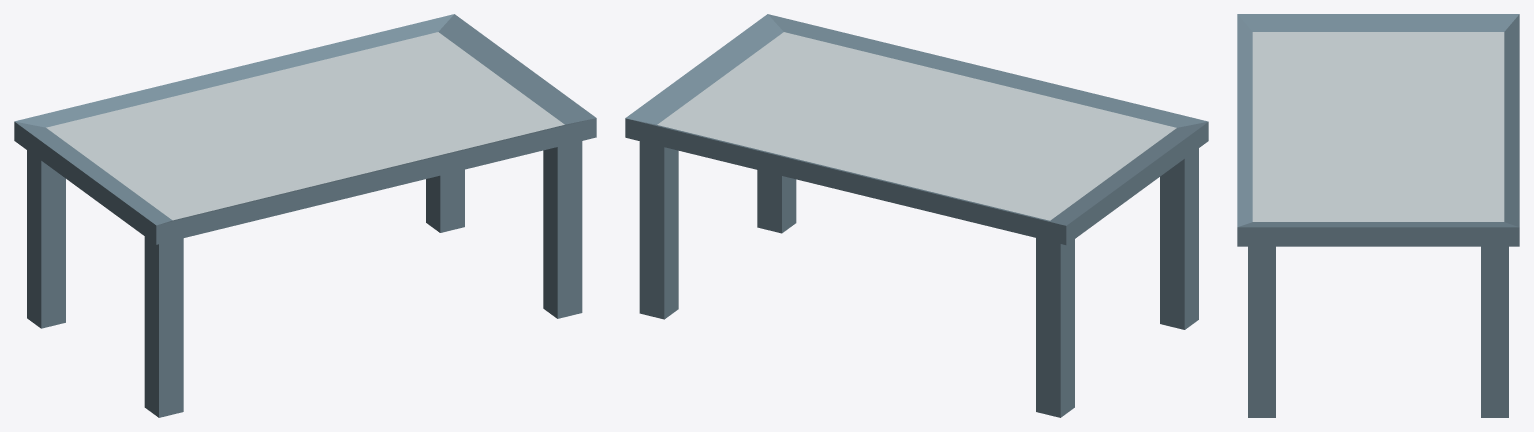
The model's file is Table.glb.
3 views of the same model, side by side, from view 1: azimuth 30°, elevation 25°; view 2: azimuth 150°, elevation 25°; view 3: azimuth 270°, elevation 25° (orthographic).
Parts seen in each view (by area): view 1: Node; view 2: Node; view 3: Node.
Boxes of the visible parts, <box> form: Node: <box>14,14,596,417</box>; Node: <box>625,14,1208,417</box>; Node: <box>1237,14,1519,417</box>.
Size of the model in its own units: 1.43 by 0.61 by 0.8.
